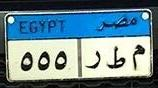5: (19, 50, 34, 74), (54, 50, 70, 71), (37, 49, 51, 73)
Taa: (106, 44, 126, 72)
meem: (129, 41, 145, 72)
raa: (83, 48, 102, 71)
